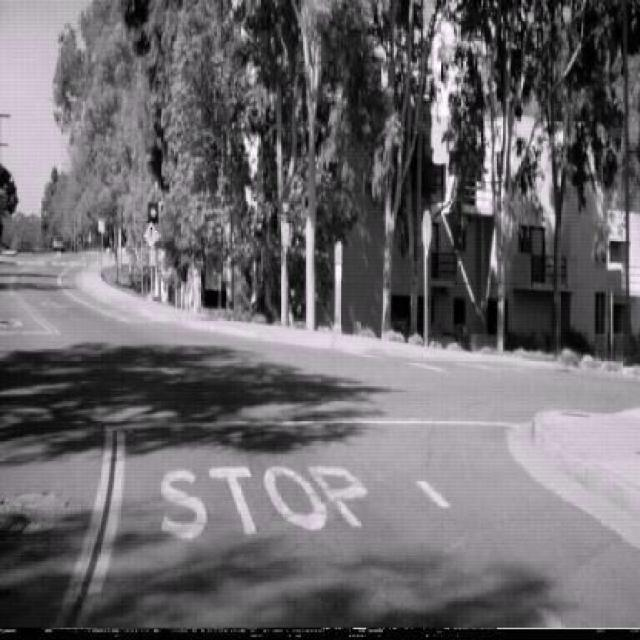pedestrianCrossing: (145, 220, 160, 248)
